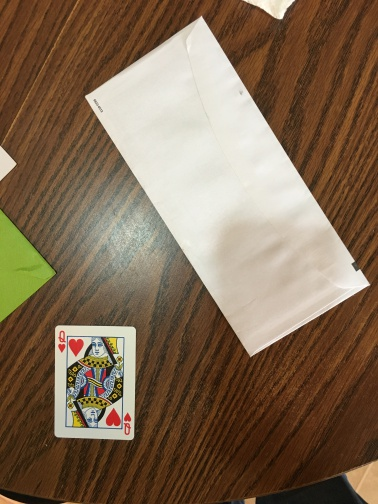queen: (51, 324, 137, 440)
